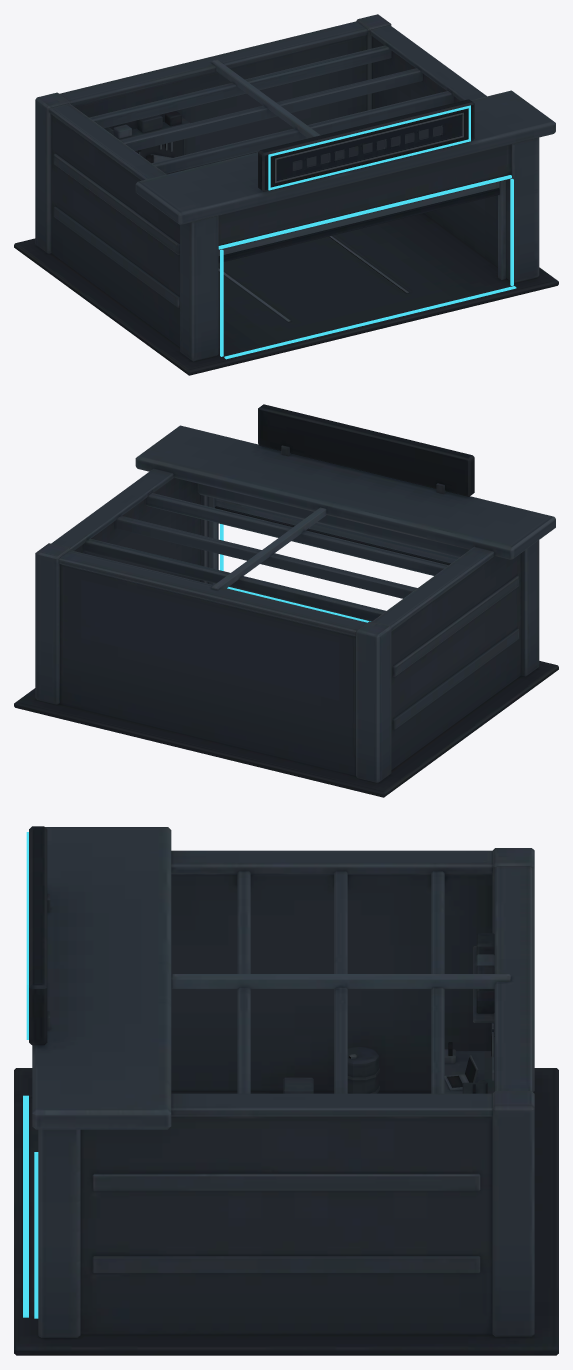
The model's file is garage.glb.
The picture shows the model from 3 angles, top to bottom: view 1: azimuth 30°, elevation 25°; view 2: azimuth 150°, elevation 25°; view 3: azimuth 270°, elevation 25°; orthographic projection. The views are drawn at different scales.
Parts seen in each view (by area): view 1: garage, sign, trim; view 2: garage, trim; view 3: garage, trim.
Boxes of the visible parts, x1,y1,x2,y2 form: garage: (14,14,558,375); sign: (275,112,463,183); trim: (218,105,516,359); garage: (14,404,558,797); trim: (220,524,370,622); garage: (14,826,558,1355); trim: (23,832,38,1318).
Size of the model in its own units: 11.2 by 5.65 by 9.
Materials: 3 (2 with a texture image).
